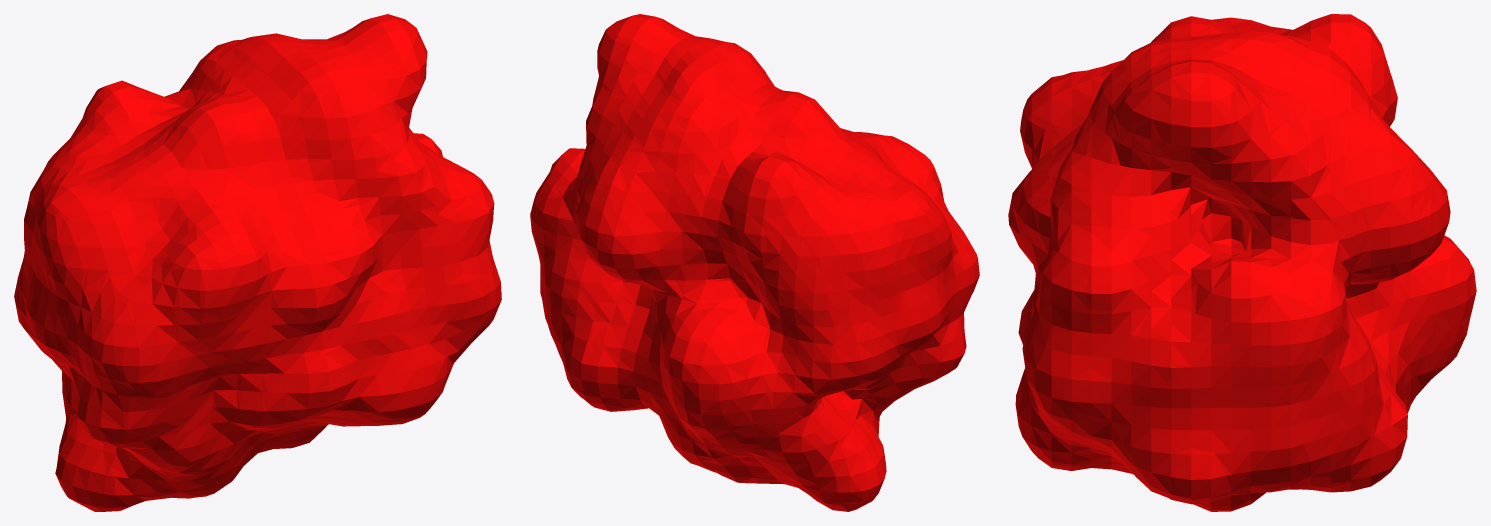
File: nfsB_coarse.dae
3 views of the same model, side by side, from view 1: azimuth 30°, elevation 25°; view 2: azimuth 150°, elevation 25°; view 3: azimuth 270°, elevation 25° (orthographic). The views are drawn at different scales.
Parts seen in each view (by area): view 1: nfsB; view 2: nfsB; view 3: nfsB.
Part boxes in pixels (x1=…): nfsB: x1=14, y1=14, x2=501, y2=511; nfsB: x1=530, y1=14, x2=979, y2=511; nfsB: x1=1008, y1=14, x2=1476, y2=511.
Size of the model in its own units: 61.77 by 62.87 by 49.81.
